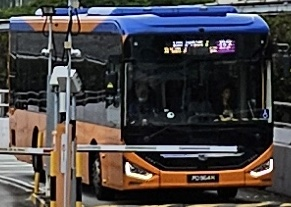bus: (217, 40, 234, 53)
